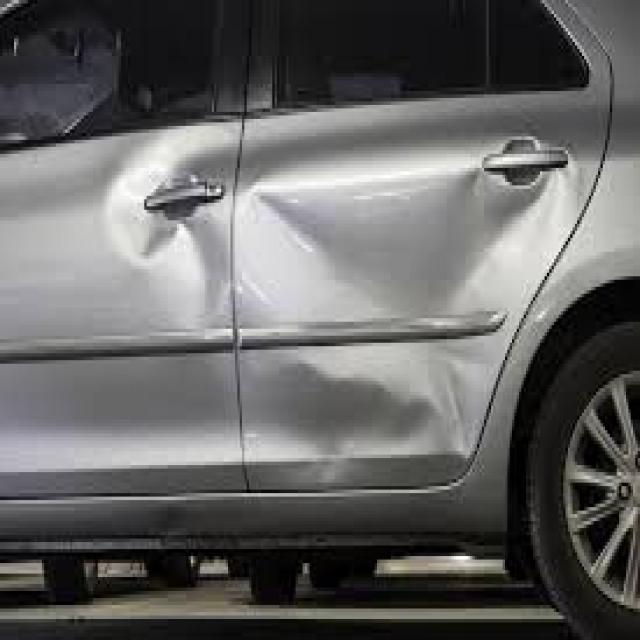minor: (269, 148, 581, 462), (115, 149, 234, 332)
